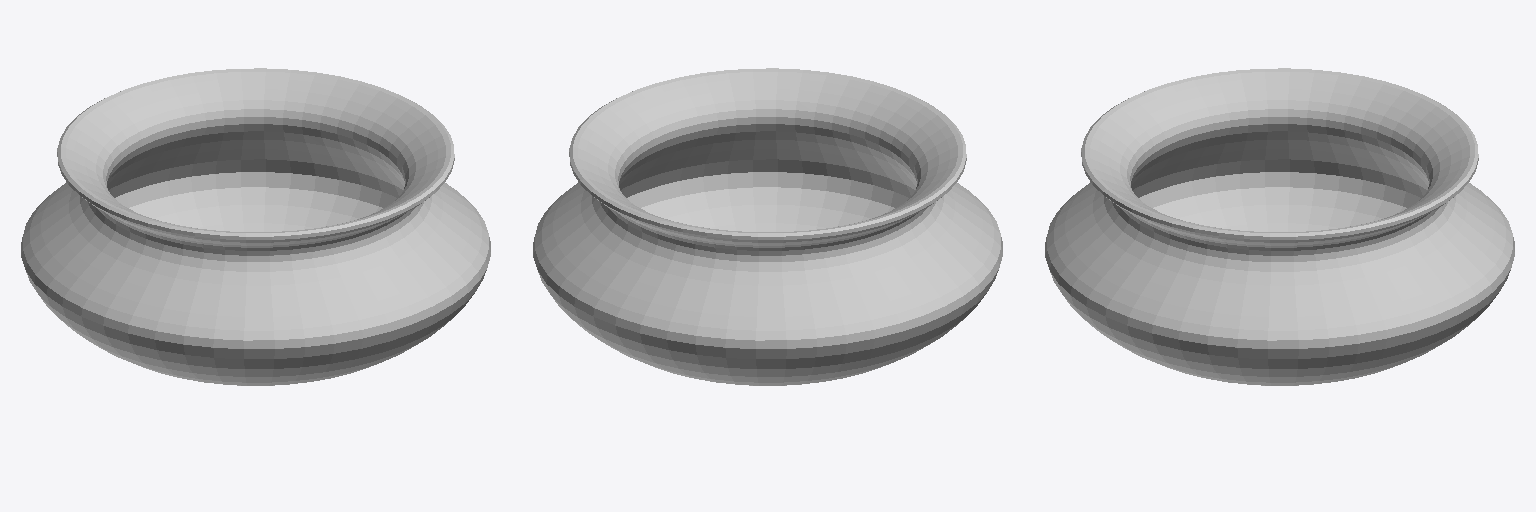
The picture shows the model from 3 angles: view 1: azimuth 30°, elevation 25°; view 2: azimuth 150°, elevation 25°; view 3: azimuth 270°, elevation 25°; orthographic projection.
Parts seen in each view (by area): view 1: Vase_013; view 2: Vase_013; view 3: Vase_013.
Boxes of the visible parts, x1,y1,x2,y2 form: Vase_013: [21, 68, 490, 385]; Vase_013: [533, 68, 1002, 385]; Vase_013: [1045, 68, 1514, 385].
Bounding box in the file's own units: 11.46 × 5.65 × 11.46.